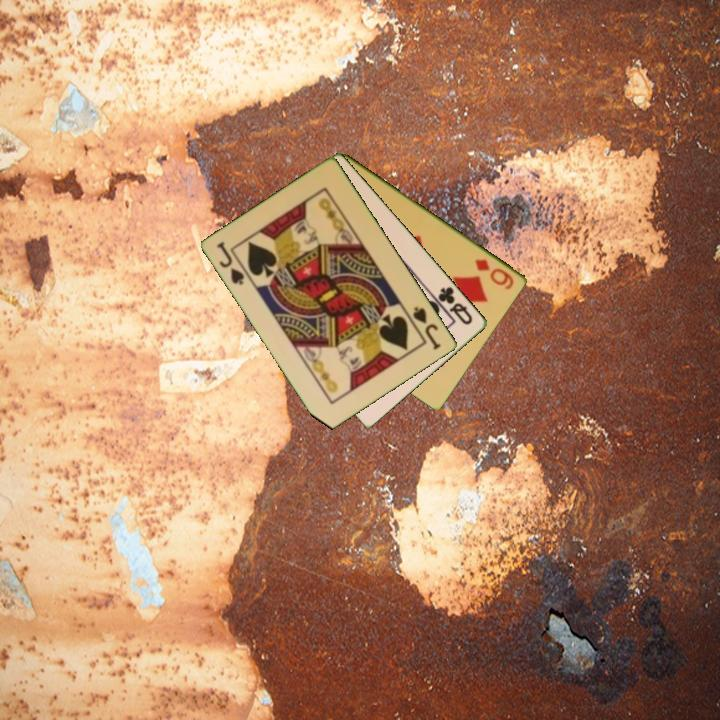6d: (472, 255, 517, 293)
Js: (409, 303, 444, 353), (214, 238, 248, 288)
Qc: (435, 283, 476, 328)
